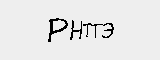І: (60, 27, 70, 45)
А: (36, 26, 61, 45)
Б: (17, 26, 36, 45)
Ж: (67, 29, 91, 45)
М: (110, 24, 139, 45)
О: (92, 27, 109, 44)
